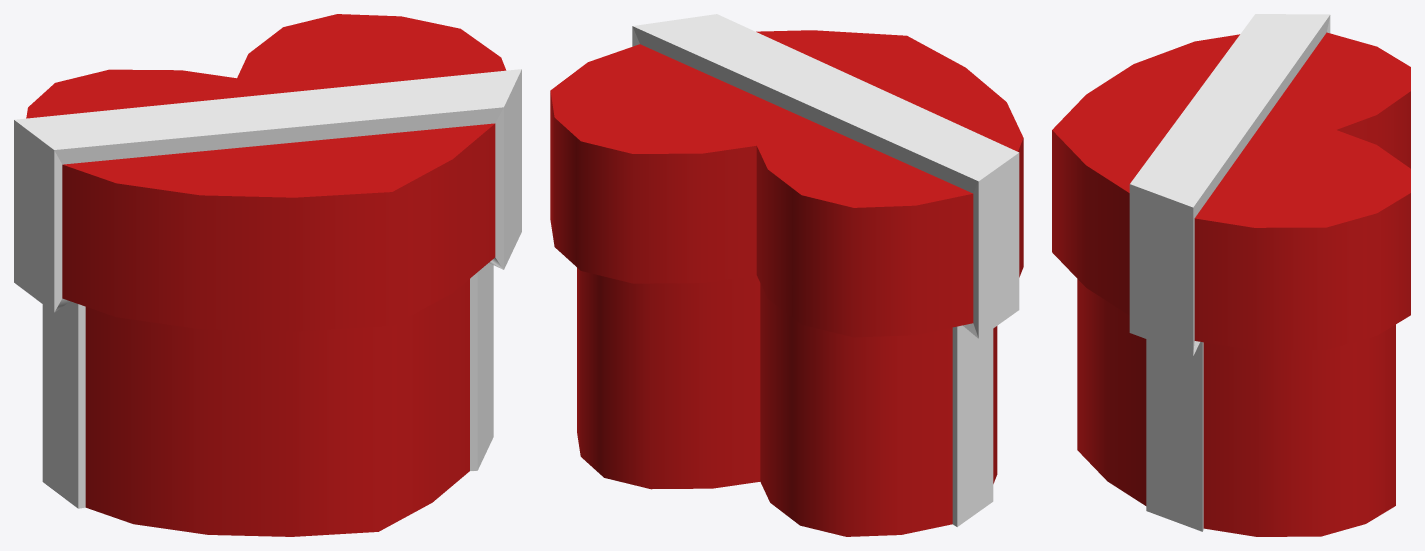
The model's file is Giftbox2-1.fbx.
The picture shows the model from 3 angles, left to right: view 1: azimuth 30°, elevation 25°; view 2: azimuth 150°, elevation 25°; view 3: azimuth 270°, elevation 25°; orthographic projection. The views are drawn at different scales.
Parts seen in each view (by area): view 1: Line006; view 2: Line006; view 3: Line006.
Boxes of the visible parts, left/top/right/bottom form: Line006: left=14, top=14, right=521, bottom=536; Line006: left=550, top=14, right=1023, bottom=536; Line006: left=1052, top=14, right=1410, bottom=536.
Size of the model in its own units: 21.79 by 17.07 by 16.58.
